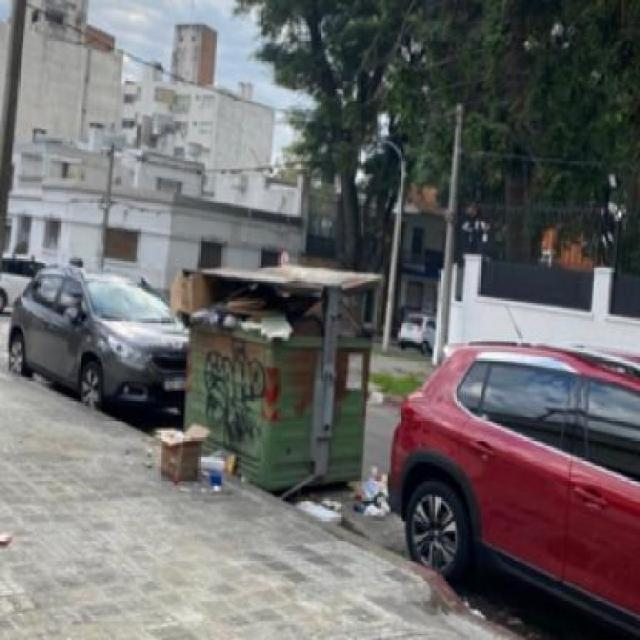garbage: (171, 272, 361, 350), (149, 417, 240, 497), (297, 480, 354, 536), (362, 468, 396, 510)
